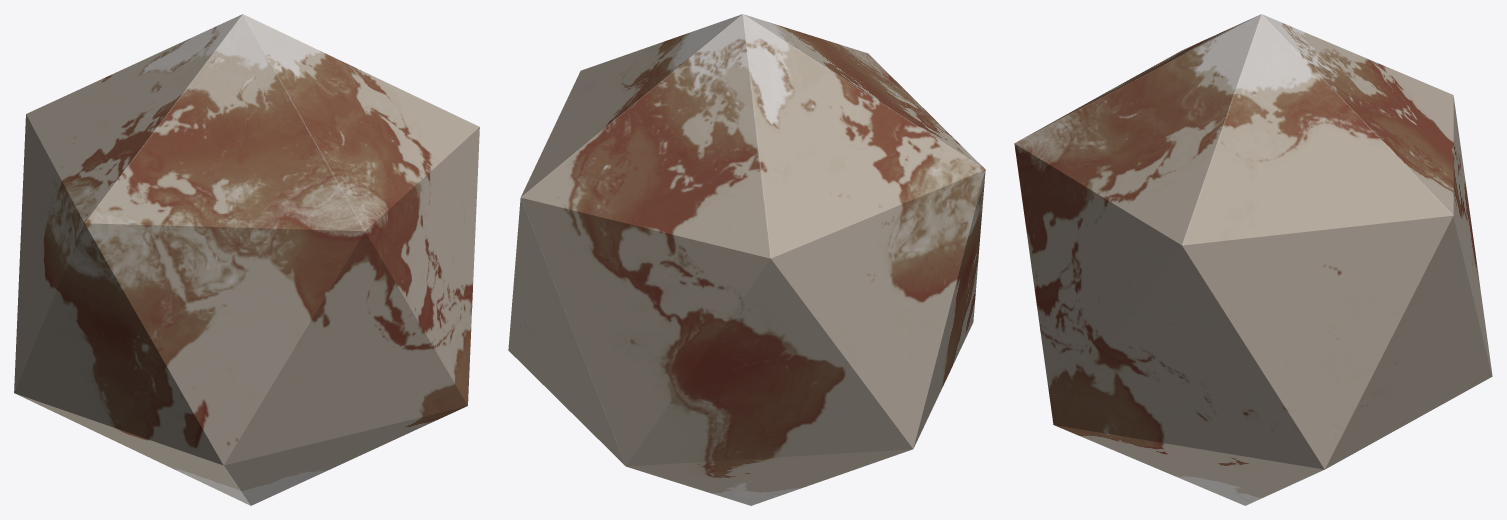
File: OutlinedBox.gltf
3 renders of one model, left to right at view 1: azimuth 30°, elevation 25°; view 2: azimuth 150°, elevation 25°; view 3: azimuth 270°, elevation 25°, orthographic. The views are drawn at different scales.
Visible parts, largest first — view 1: Platonico_1; view 2: Platonico_1; view 3: Platonico_1.
Boxes of the visible parts, x1,y1,x2,y2 form: Platonico_1: (14, 14, 479, 505); Platonico_1: (508, 14, 985, 505); Platonico_1: (1014, 14, 1492, 505).
Size of the model in its own units: 170 by 200 by 176.
Materials: 1 (1 with a texture image).
